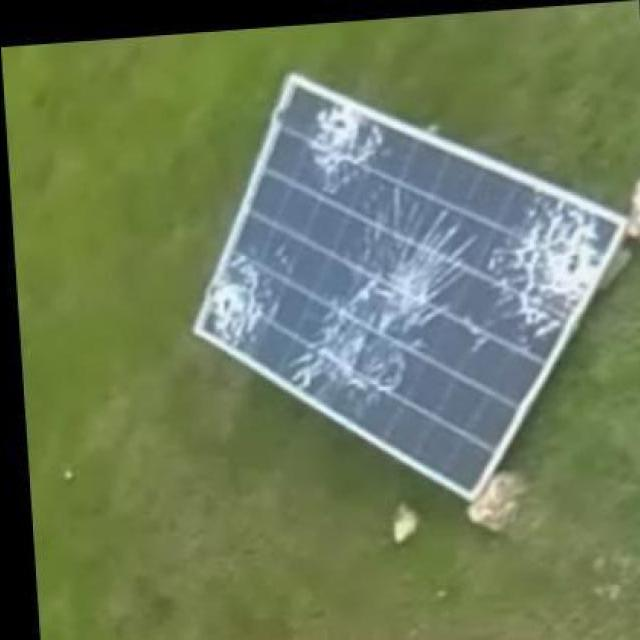cracked: (187, 71, 622, 502)
